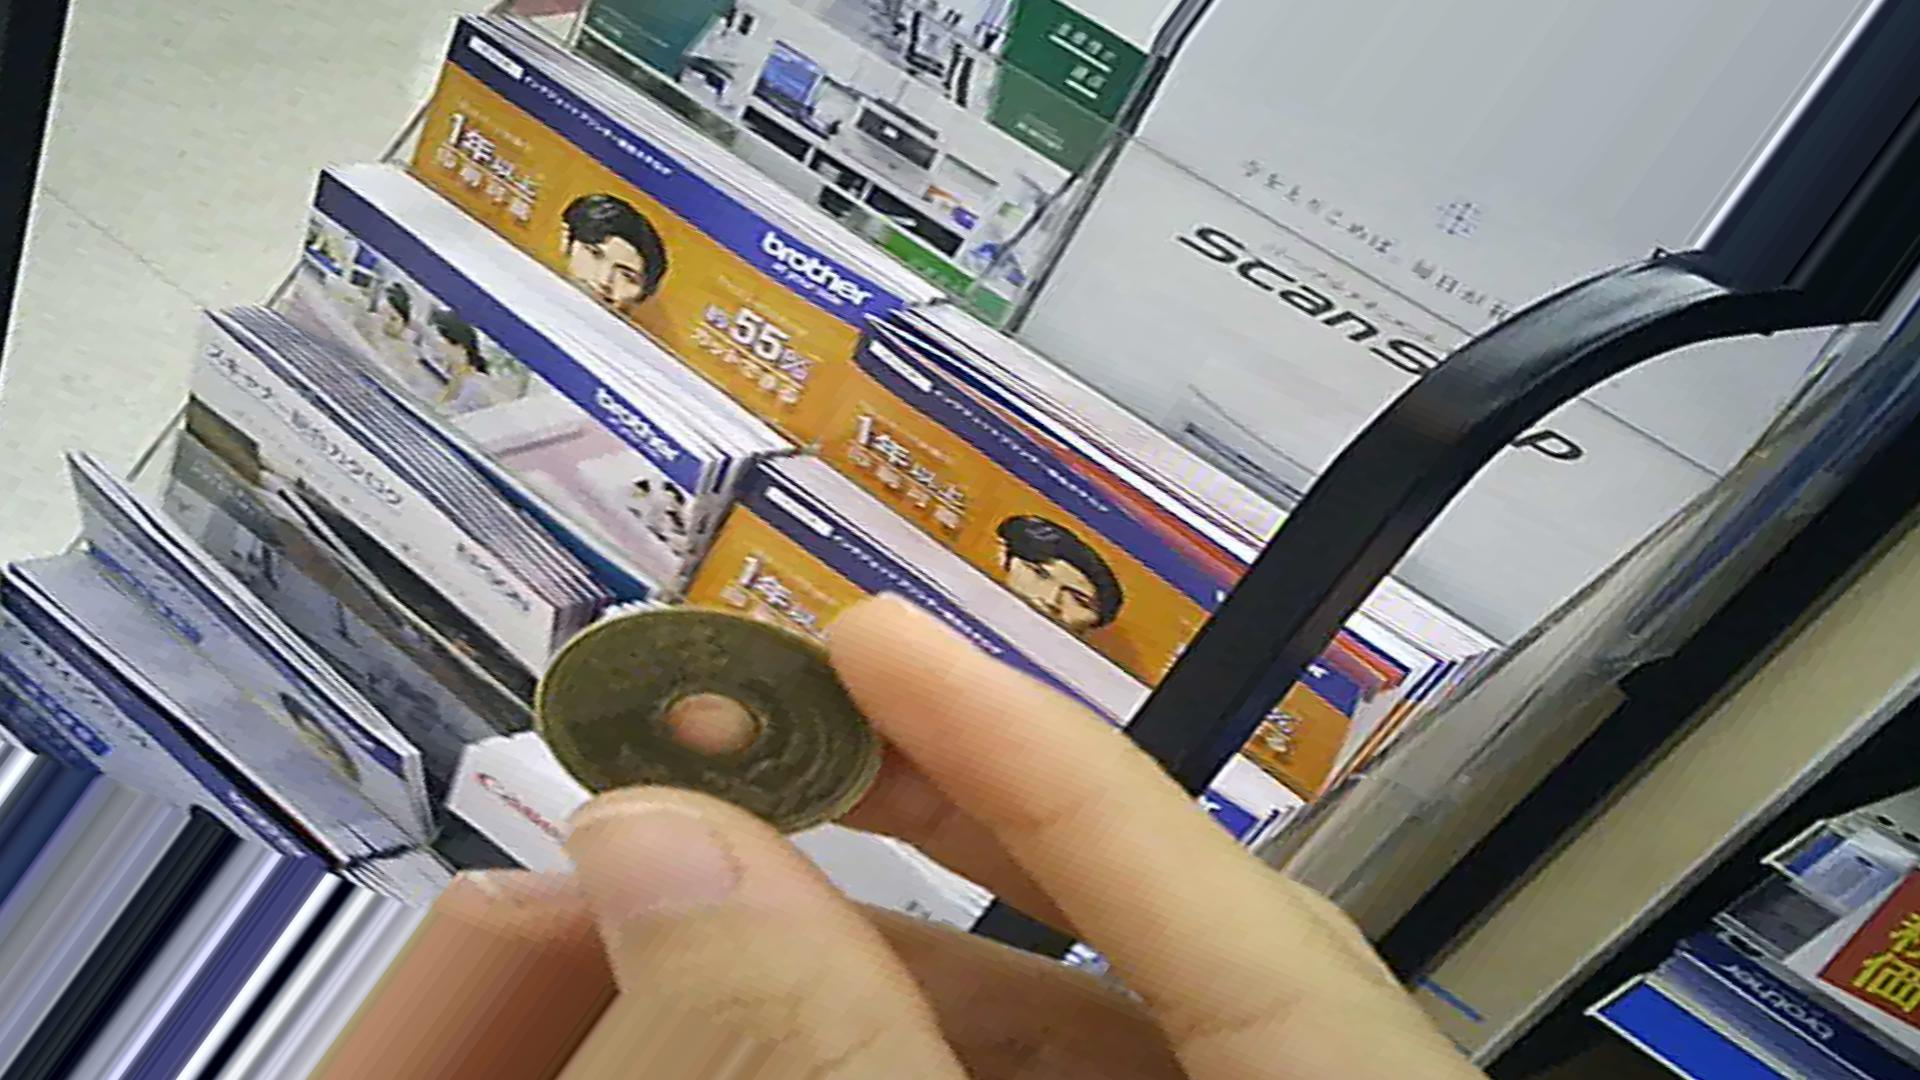5 Yen: (525, 613, 869, 829)
